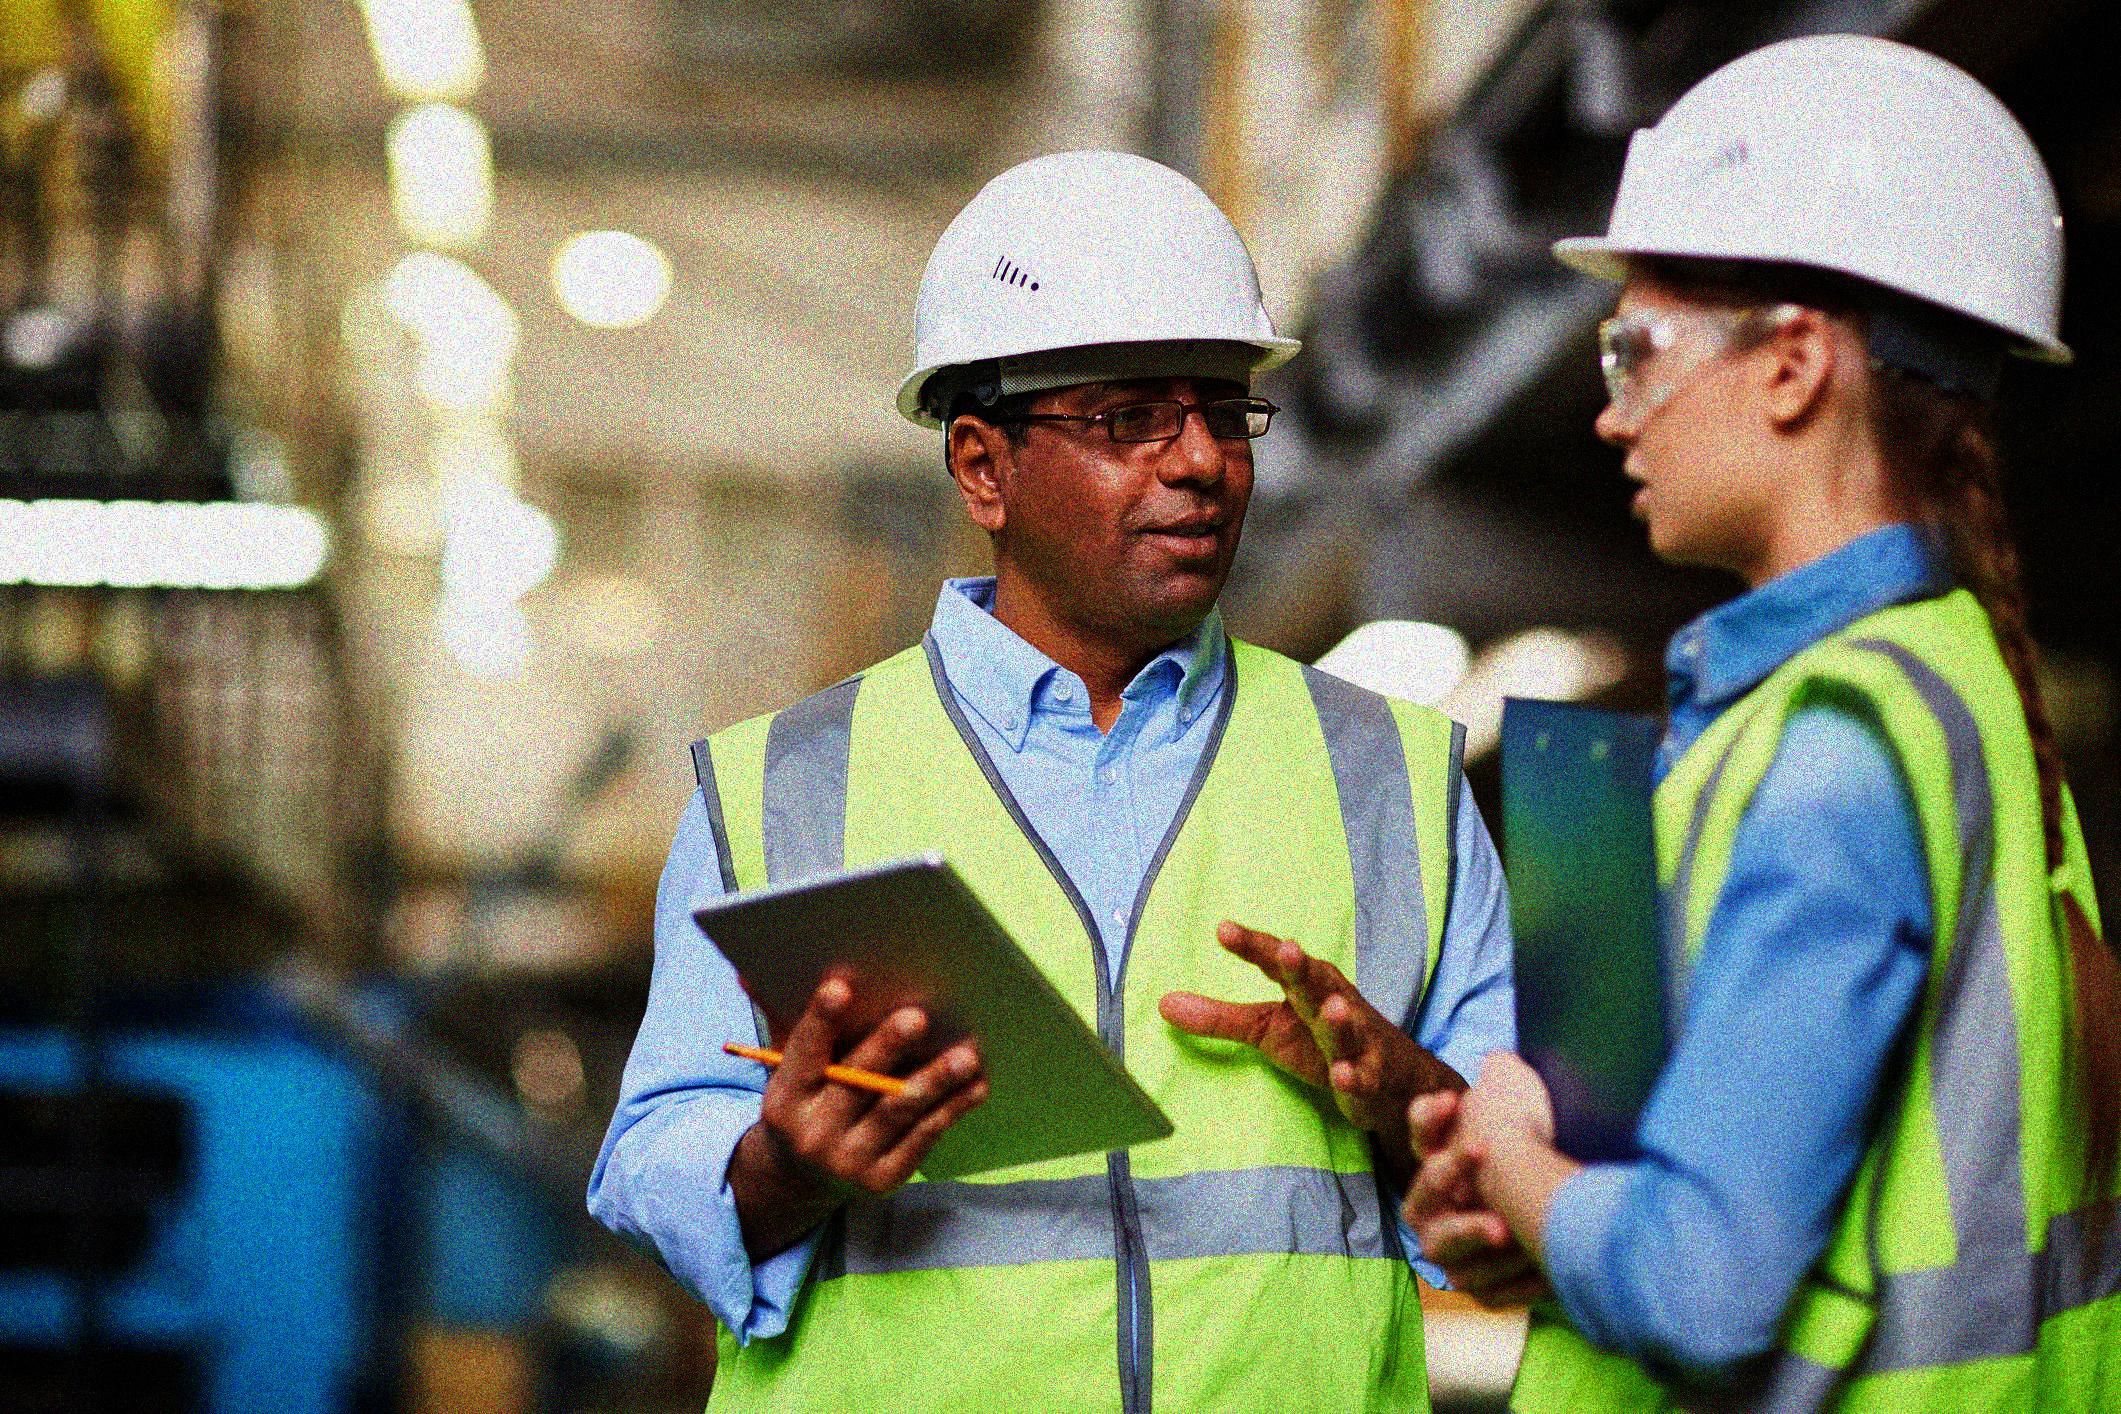helmet: (1548, 27, 2086, 573), (887, 144, 1308, 638)
